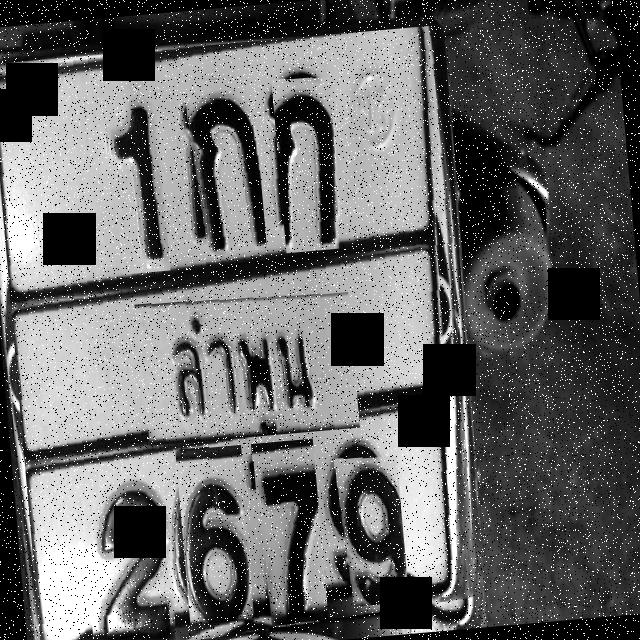letters: (79, 465, 186, 640), (182, 76, 268, 257), (174, 443, 256, 624), (251, 438, 329, 626), (271, 74, 349, 253), (102, 83, 170, 274), (333, 453, 409, 607)
license-plate: (0, 25, 459, 640)
province: (133, 285, 360, 446)
